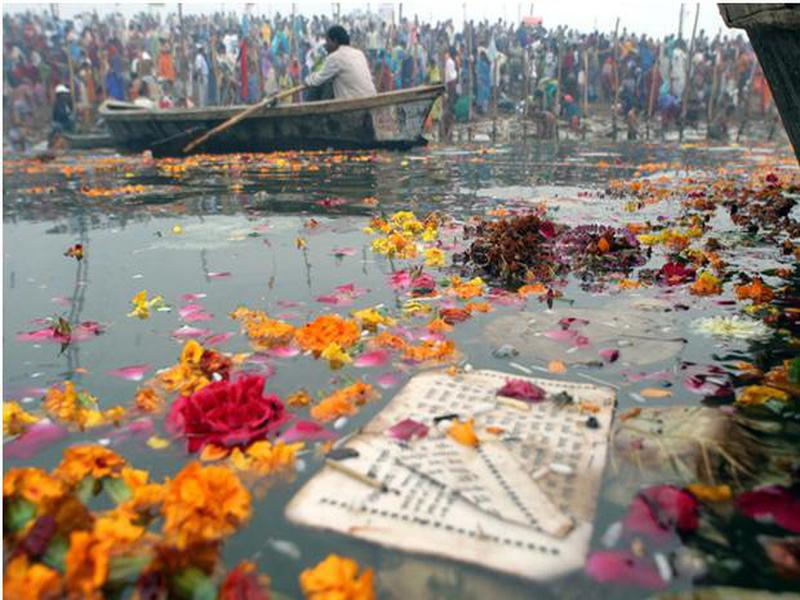flowers: (4, 341, 381, 600), (644, 181, 800, 408), (245, 285, 475, 376), (451, 197, 648, 285), (353, 196, 450, 274)
